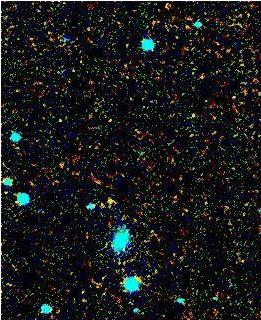star: (95, 185, 125, 215)
